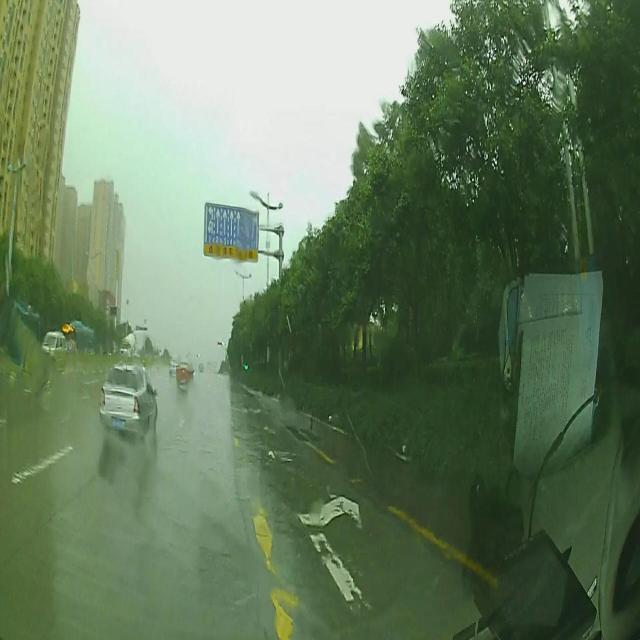car: (98, 363, 158, 443), (41, 331, 66, 354), (176, 360, 195, 383), (167, 354, 180, 378)
